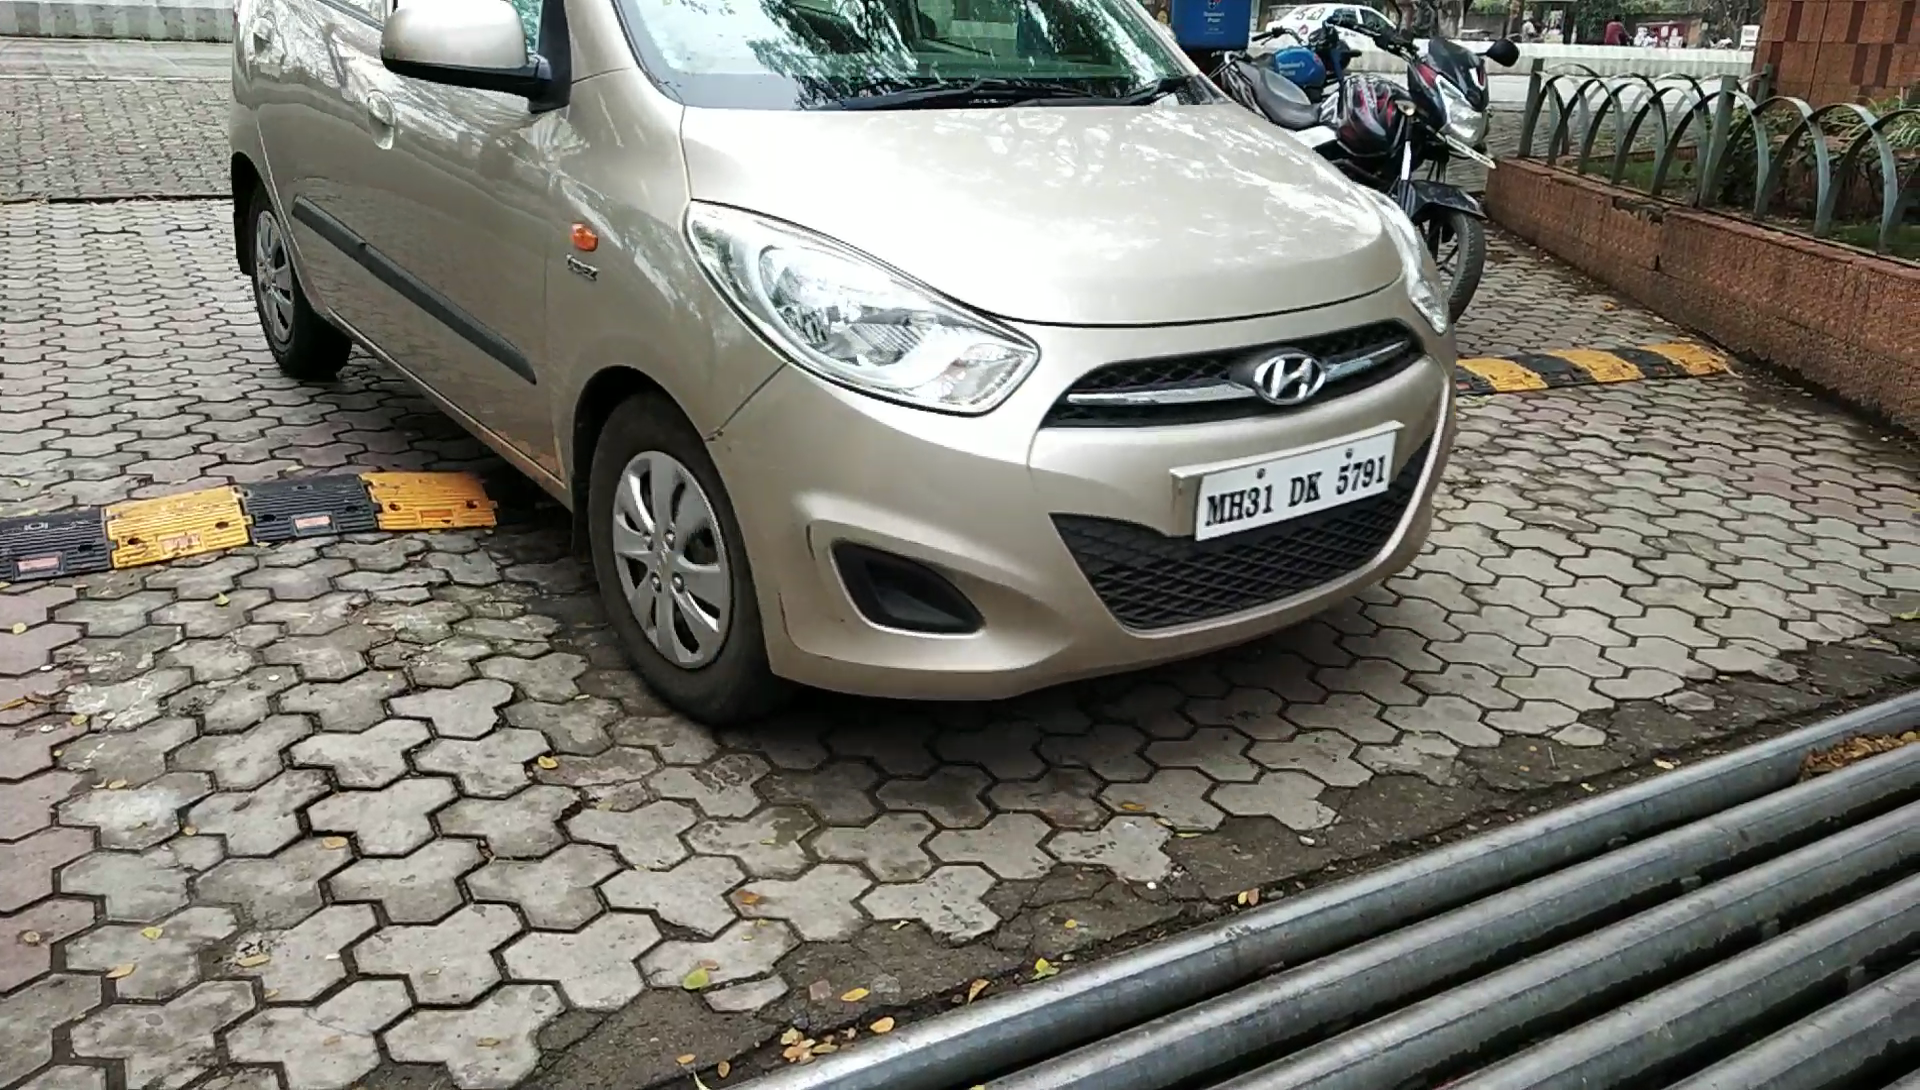car: (208, 1, 1524, 707)
numplate: (1149, 433, 1431, 544)
